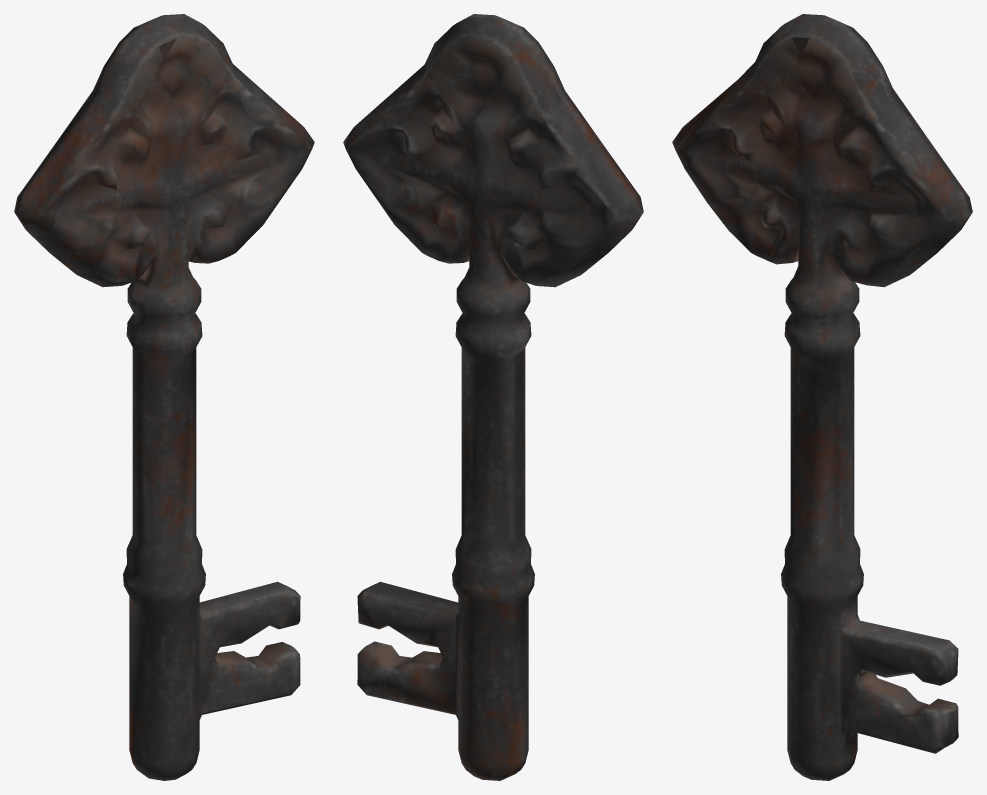
Rendered from key_06.glb.
The picture shows the model from 3 angles, left to right: view 1: azimuth 30°, elevation 25°; view 2: azimuth 150°, elevation 25°; view 3: azimuth 330°, elevation 25°; orthographic projection.
Visible parts, largest first — view 1: Key; view 2: Key; view 3: Key.
Part boxes in pixels (box(x1,y1,x2,y2)): Key: box(14, 14, 314, 780); Key: box(343, 14, 643, 780); Key: box(672, 14, 972, 780).
Bounding box in the file's own units: 0.041 × 0.1 × 0.00992.
Materials: 1 (1 with a texture image).
